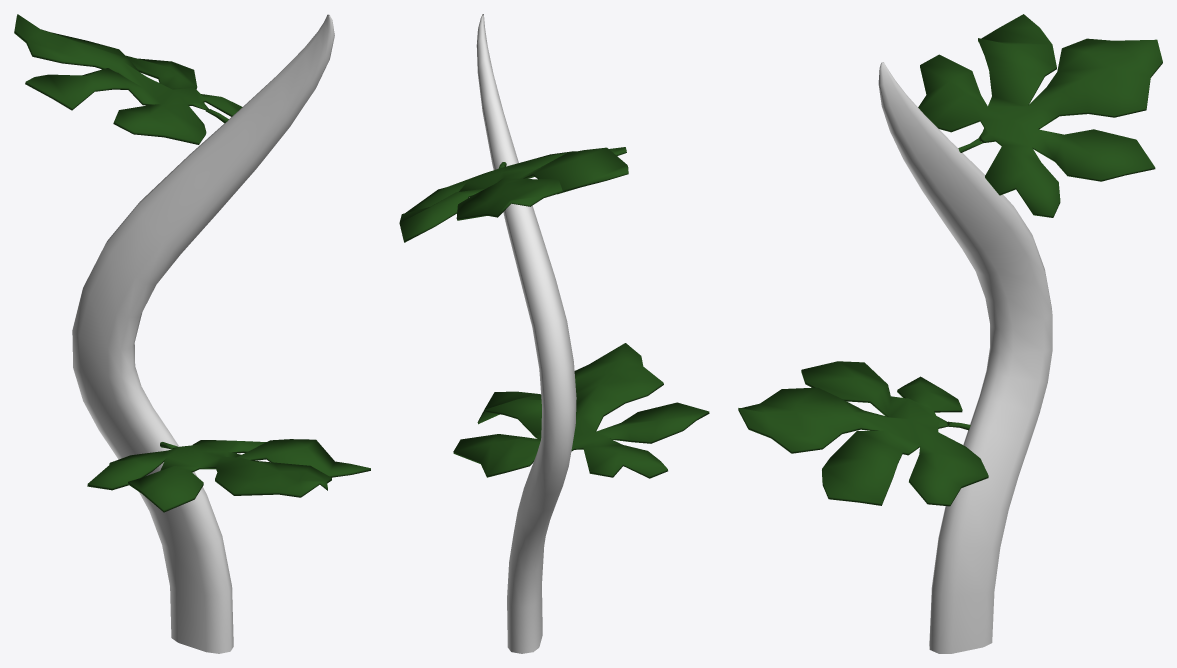
Rendered from Planta Sandia Chica.fbx.
3 views of the same model, side by side, from view 1: azimuth 30°, elevation 25°; view 2: azimuth 150°, elevation 25°; view 3: azimuth 270°, elevation 25° (orthographic). The views are drawn at different scales.
Visible parts, largest first — view 1: Planta Sandia Chica; view 2: Planta Sandia Chica; view 3: Planta Sandia Chica.
Boxes of the visible parts, x1=… form: Planta Sandia Chica: x1=14, y1=14, x2=370, y2=653; Planta Sandia Chica: x1=399, y1=14, x2=709, y2=653; Planta Sandia Chica: x1=738, y1=14, x2=1162, y2=653.
Size of the model in its own units: 211 by 321 by 520.
